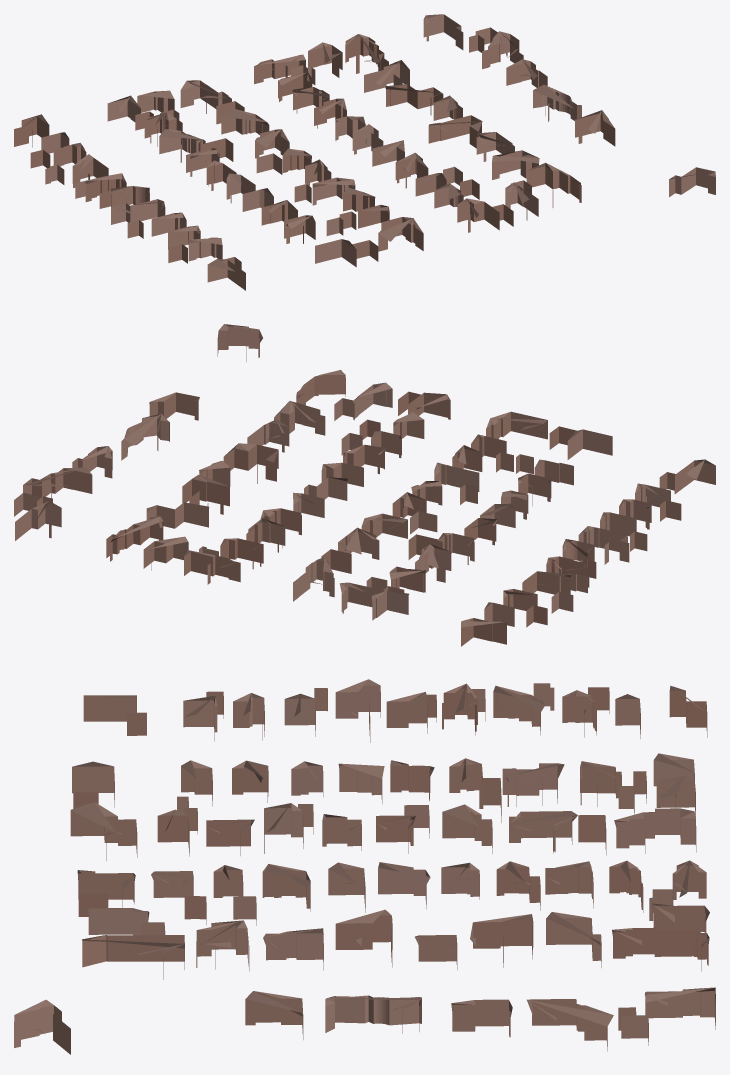
Rendered from c_1645_17823_buildings_residential.glb.
3 views of the same model, one above another, from view 1: azimuth 30°, elevation 25°; view 2: azimuth 150°, elevation 25°; view 3: azimuth 270°, elevation 25° (orthographic). The views are drawn at different scales.
Parts seen in each view (by area): view 1: geometry_0; view 2: geometry_0; view 3: geometry_0.
Boxes of the visible parts, <box> form: geometry_0: <box>14,14,715,290</box>; geometry_0: <box>14,324,715,646</box>; geometry_0: <box>14,679,715,1054</box>.
Bounding box in the file's own units: 264 × 10.94 × 221.
